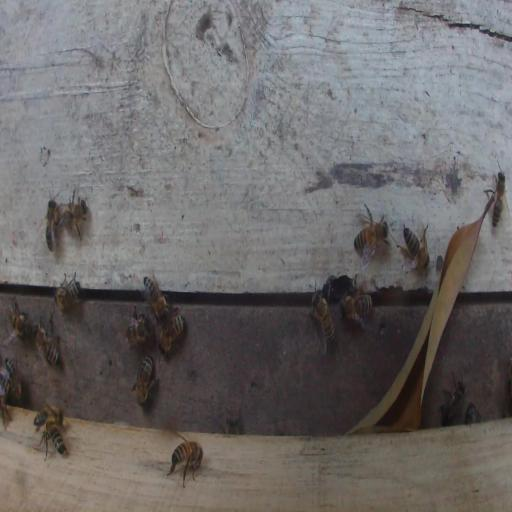nonpollenbee: (353, 202, 389, 264), (167, 439, 203, 489), (310, 289, 336, 357), (59, 188, 89, 241), (483, 170, 508, 229), (131, 355, 159, 407), (402, 223, 430, 274), (33, 314, 60, 366), (438, 372, 465, 423), (143, 273, 169, 323), (157, 311, 185, 356), (125, 304, 153, 347), (54, 270, 80, 314), (7, 300, 30, 342), (340, 293, 373, 322), (43, 198, 59, 254), (4, 358, 22, 405), (44, 421, 65, 454), (32, 407, 63, 426), (5, 378, 22, 404), (4, 357, 17, 381)
